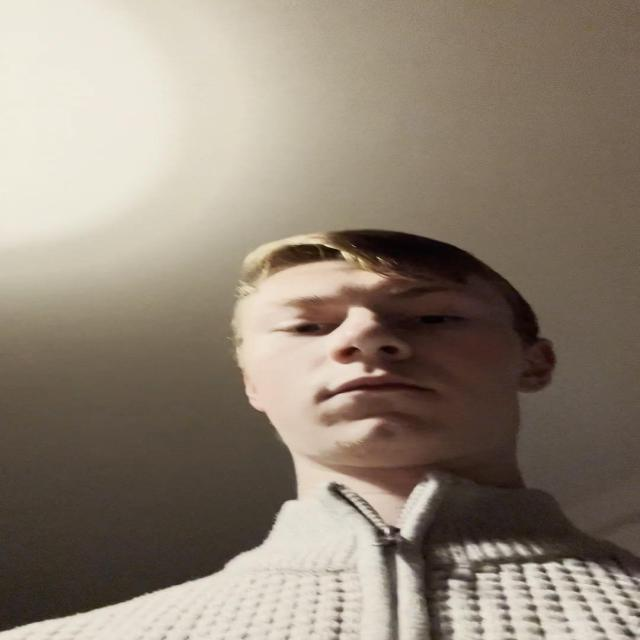no hat: (233, 230, 552, 498)
